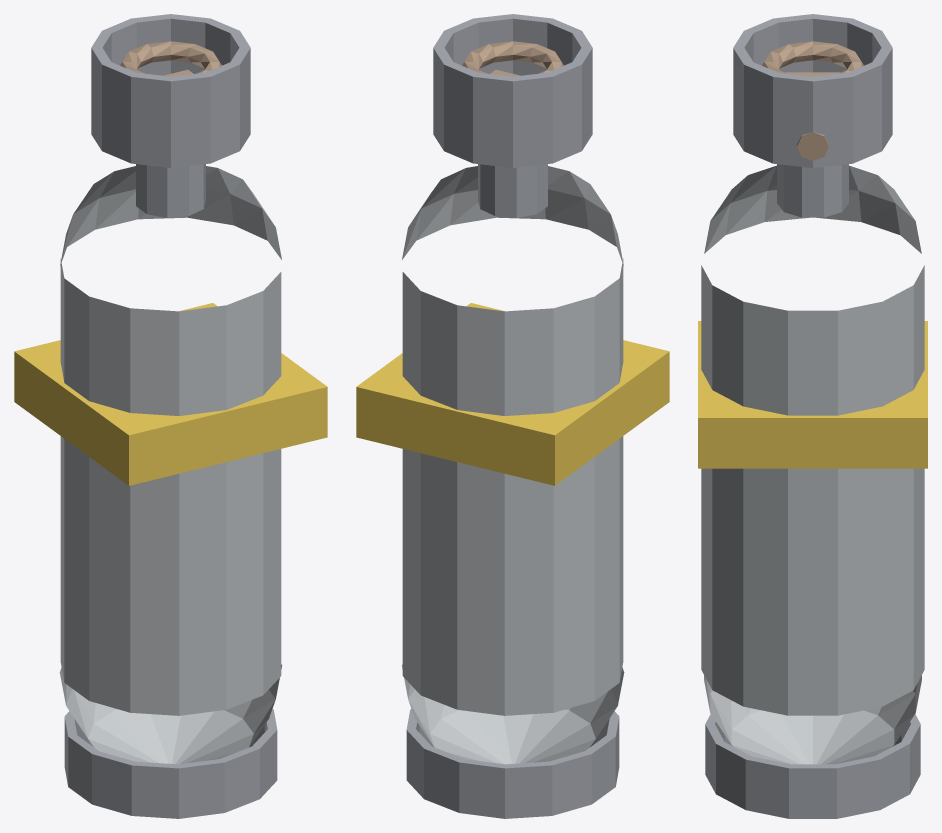
The model's file is prop_canister.glb.
3 views of the same model, side by side, from view 1: azimuth 30°, elevation 25°; view 2: azimuth 150°, elevation 25°; view 3: azimuth 270°, elevation 25° (orthographic).
Parts seen in each view (by area): view 1: prop_canister; view 2: prop_canister; view 3: prop_canister.
Part boxes in pixels (left/top/right/bottom): prop_canister: left=14, top=14, right=327, bottom=818; prop_canister: left=356, top=14, right=669, bottom=818; prop_canister: left=698, top=14, right=927, bottom=818.
Size of the model in its own units: 0.288 by 1 by 0.288.
